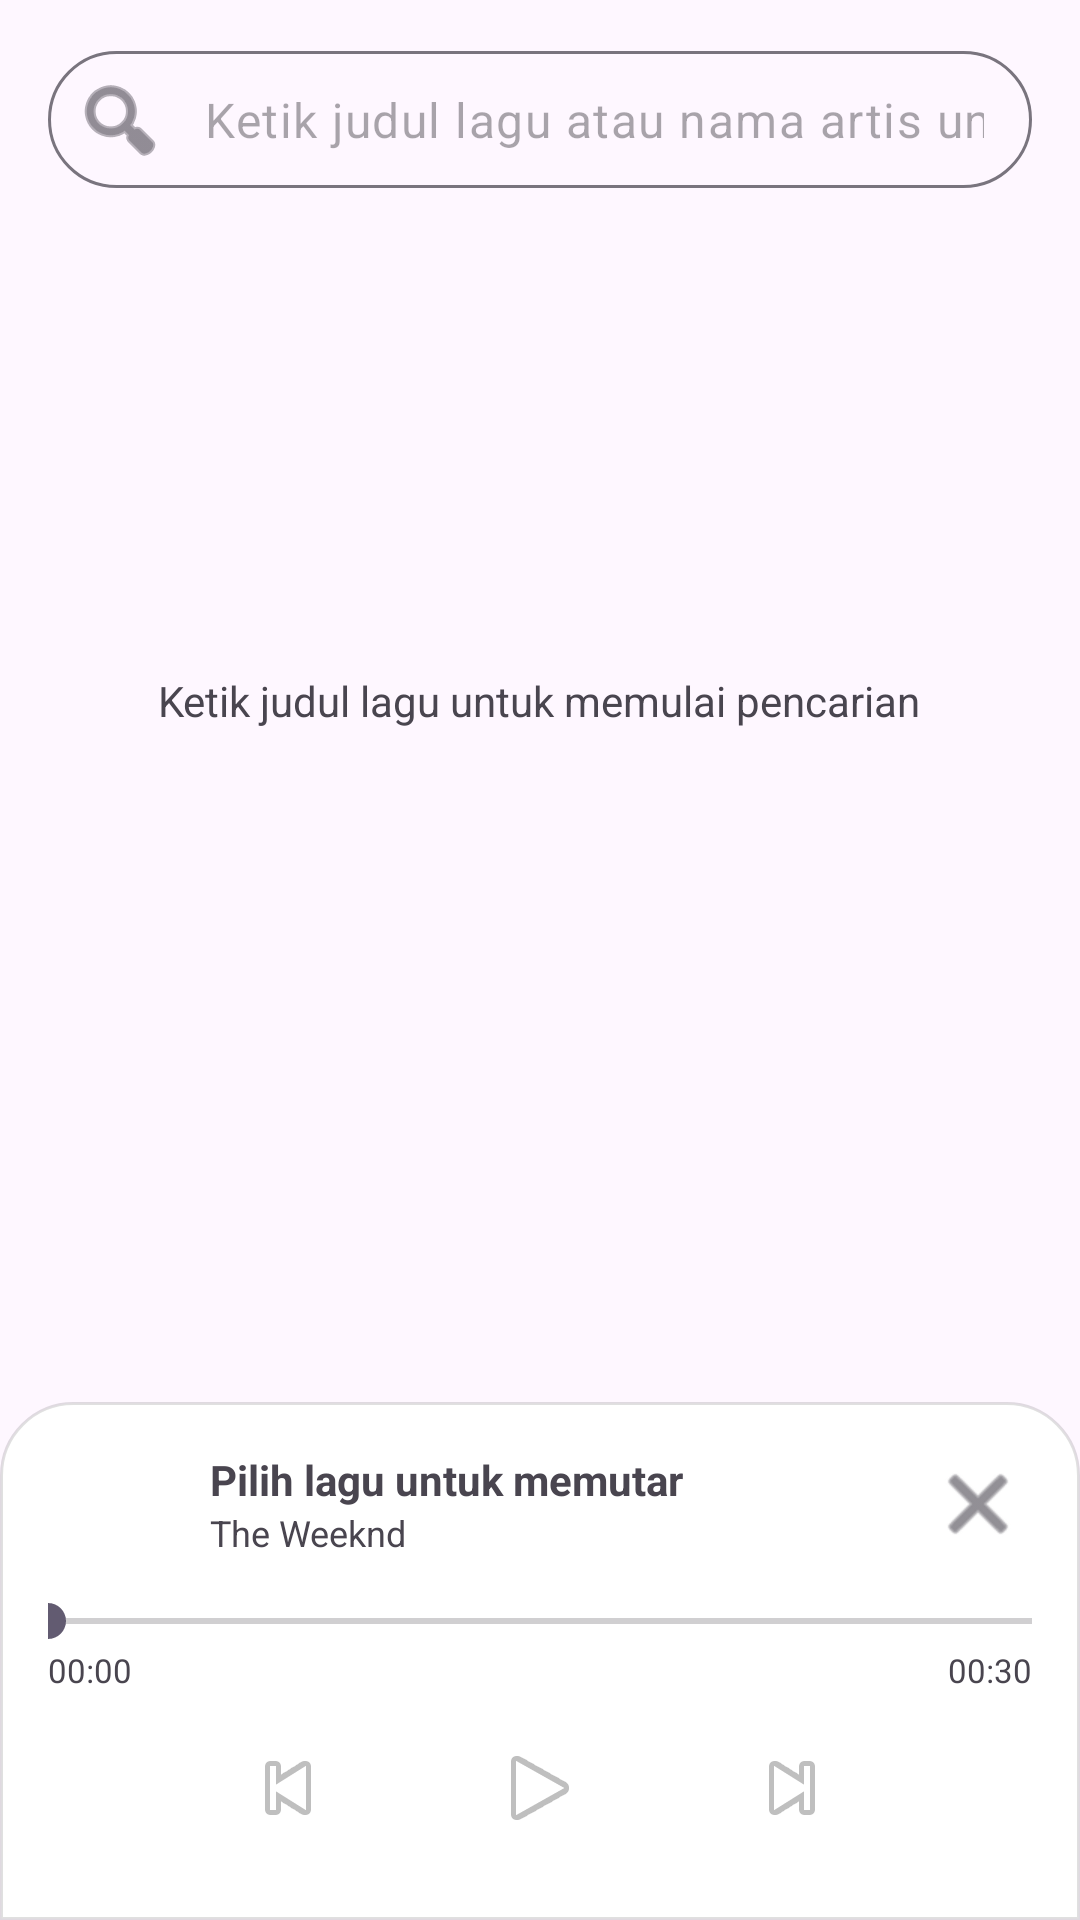

Locate icon controls on the screen. Image size 1080×1920, boxes as (x1, y1, x2, y2).
Close Player: (948, 1474, 1008, 1534)
Next: (769, 1761, 815, 1815)
Play/Pause: (511, 1756, 569, 1820)
Previous: (265, 1761, 311, 1815)
